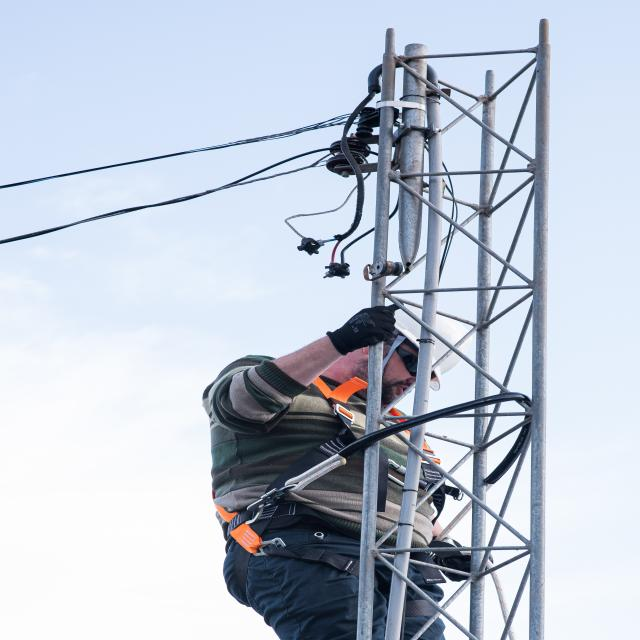capacete: (380, 306, 466, 394)
corda de vida: (207, 357, 461, 624)
luva: (319, 303, 403, 360)
